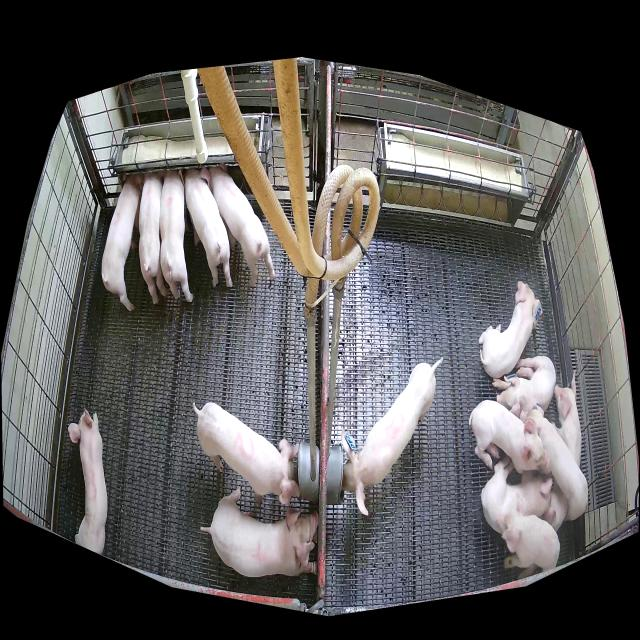pig: (341, 356, 444, 516), (193, 403, 300, 506), (200, 490, 318, 577), (200, 164, 276, 288), (520, 405, 588, 521), (179, 169, 233, 288), (479, 280, 543, 377), (469, 399, 549, 473), (68, 407, 108, 554), (482, 455, 556, 532), (102, 175, 141, 311), (497, 503, 560, 579), (160, 171, 194, 303), (137, 170, 169, 304), (492, 356, 556, 417), (551, 369, 581, 467)
